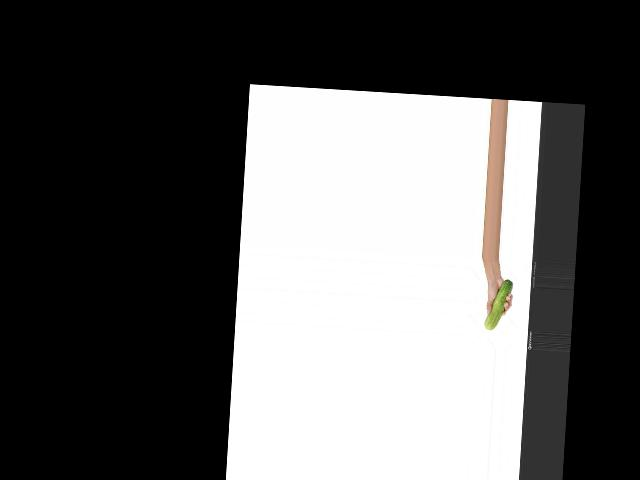cucumber: (484, 277, 513, 330)
